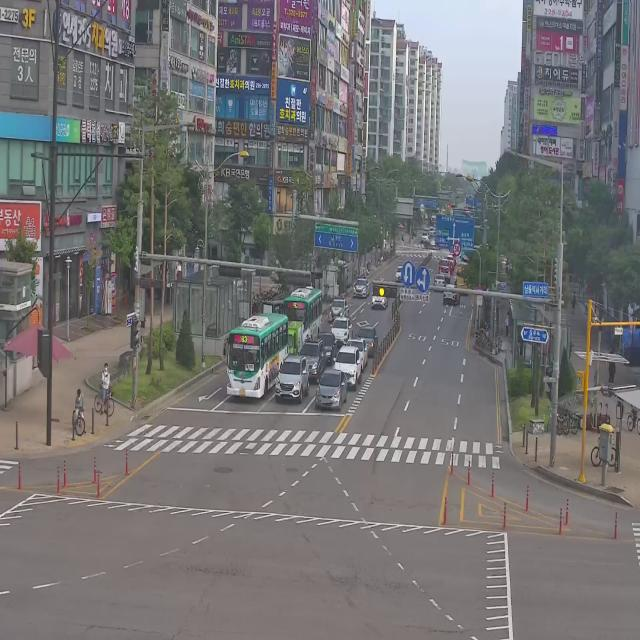Bus: (226, 306, 284, 404), (284, 282, 322, 339)
Car: (275, 354, 310, 406), (316, 367, 348, 411), (333, 344, 360, 394), (300, 339, 324, 387), (315, 328, 335, 366), (330, 314, 352, 347), (358, 322, 379, 354), (350, 338, 370, 364), (328, 295, 346, 320), (352, 275, 370, 299), (443, 283, 460, 307), (371, 290, 388, 311), (434, 276, 446, 292), (396, 262, 405, 280)
Truck: (286, 317, 304, 357)
